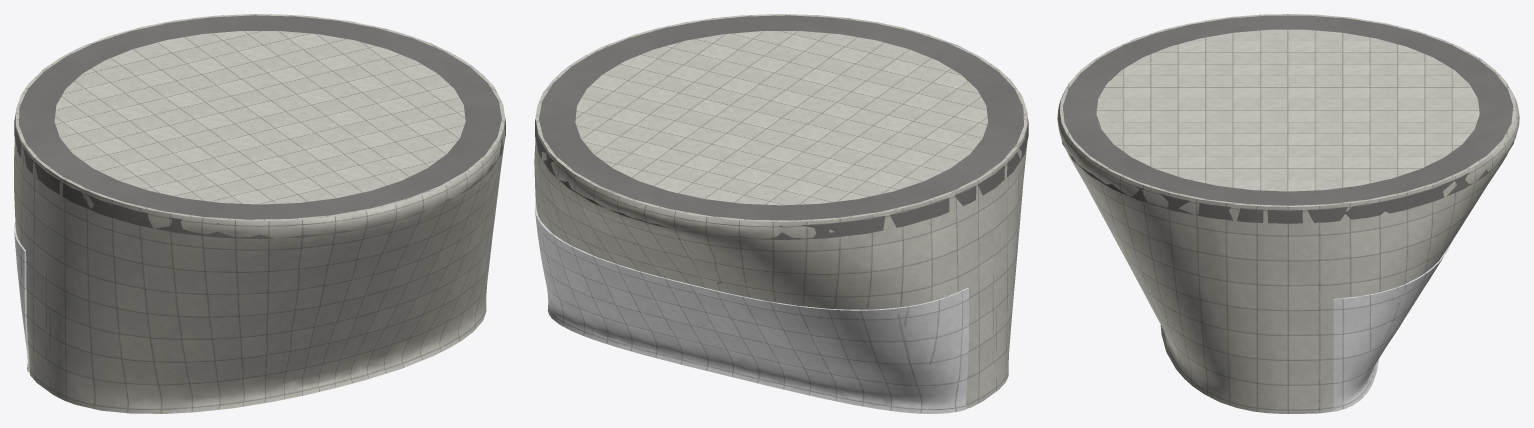
The model's file is ax_aero_11_fs2a_adapter.glb.
3 renders of one model, left to right at view 1: azimuth 30°, elevation 25°; view 2: azimuth 150°, elevation 25°; view 3: azimuth 270°, elevation 25°, orthographic. The views are drawn at different scales.
Visible parts, largest first — view 1: adapter, stack_ring, belly_tiles; view 2: adapter, belly_tiles, stack_ring; view 3: adapter, stack_ring, belly_tiles.
Part boxes in pixels (x1,y1,x2,y2): adapter: (14, 14, 505, 413); stack_ring: (14, 15, 505, 239); belly_tiles: (14, 222, 29, 371); adapter: (534, 14, 1027, 408); belly_tiles: (534, 201, 968, 413); stack_ring: (535, 15, 1028, 240); adapter: (1057, 14, 1519, 413); stack_ring: (1061, 15, 1514, 223); belly_tiles: (1333, 242, 1451, 411).
Bounding box in the file's own units: 2.51 × 1.25 × 2.53.
3 materials, 3 textured.
